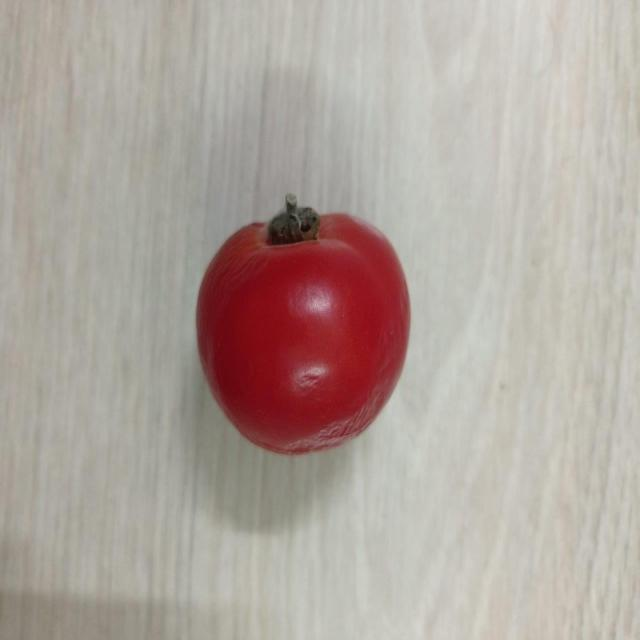Tomato: (192, 187, 414, 458)
